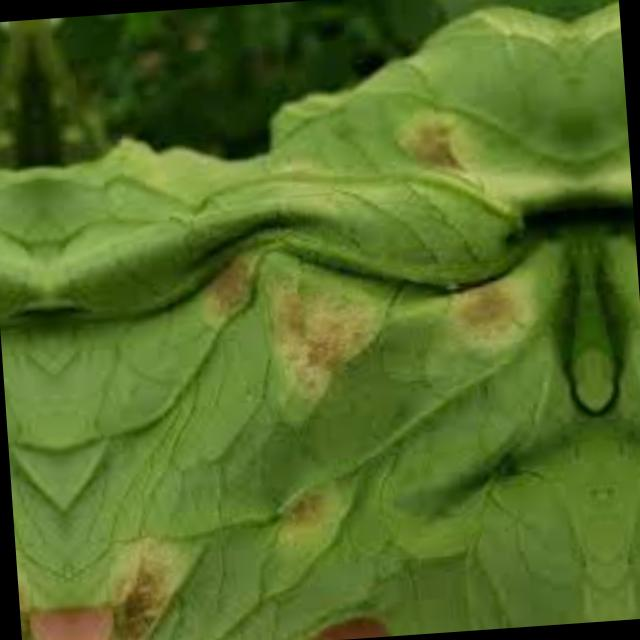Lettuce - Anthracnose: (57, 56, 610, 640), (570, 52, 640, 619), (0, 95, 49, 640)
